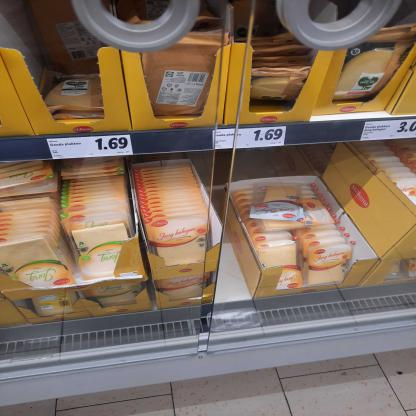prtg: (47, 135, 134, 160), (214, 127, 287, 150), (361, 120, 415, 143)
